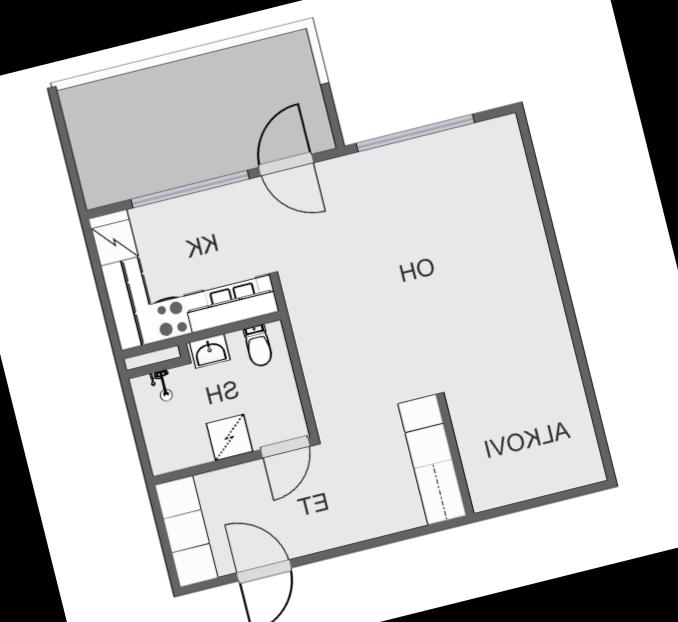door: (241, 99, 318, 179), (256, 150, 332, 226), (220, 506, 294, 584), (256, 432, 326, 504), (232, 557, 309, 622)
window: (348, 109, 484, 157), (126, 164, 254, 214)
